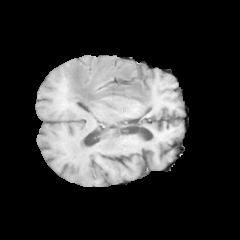glioma: (63, 61, 153, 111)
